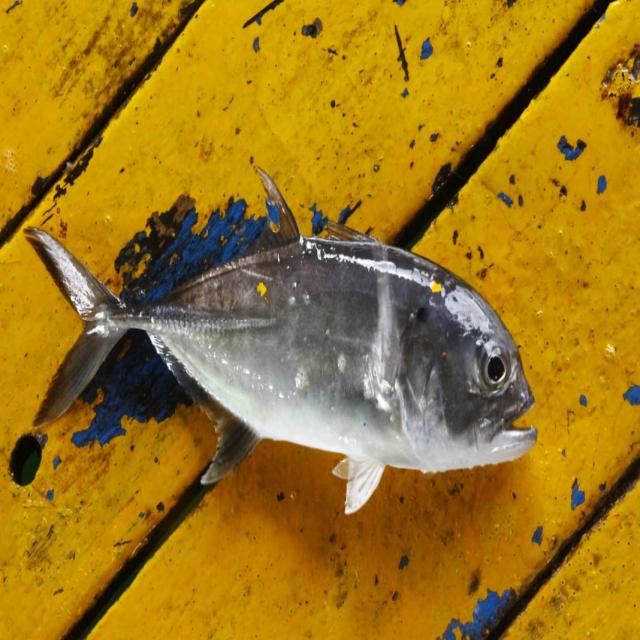ikan: (22, 164, 538, 516)
